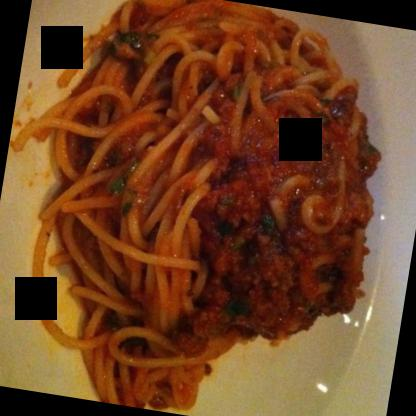pasta: (0, 0, 407, 415)
